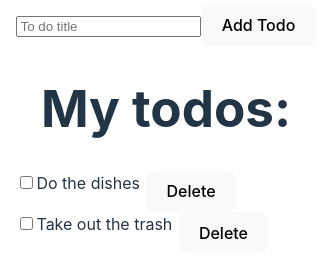
Scenario: deletes a todo item
Click the button "Delete" next to "Do the dishes" at (191, 192), box x1=146 y1=171 x2=236 y2=212
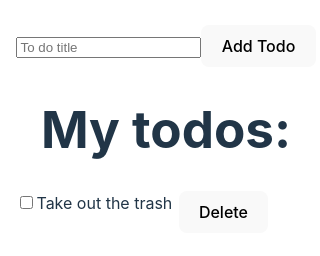
Expected: the text "Take out the trash" is shown, x1=20 y1=194 x2=172 y2=214
Expected: the text "Do the dishes" is gone
